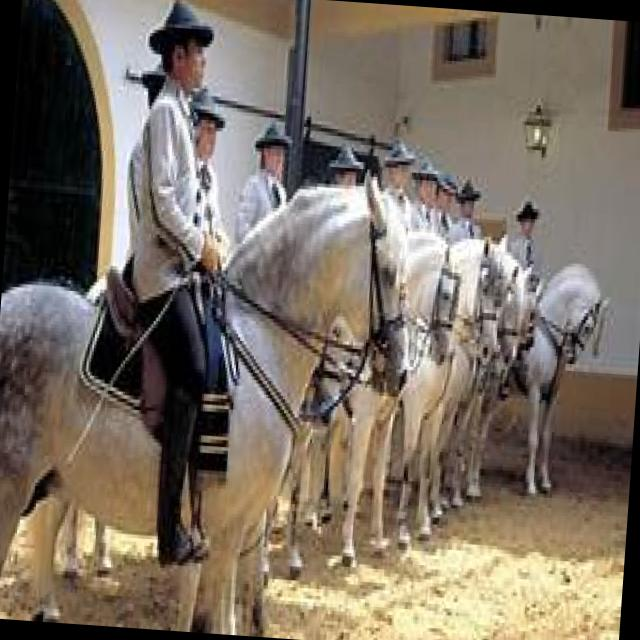horse: (0, 163, 415, 640), (508, 262, 612, 495)
